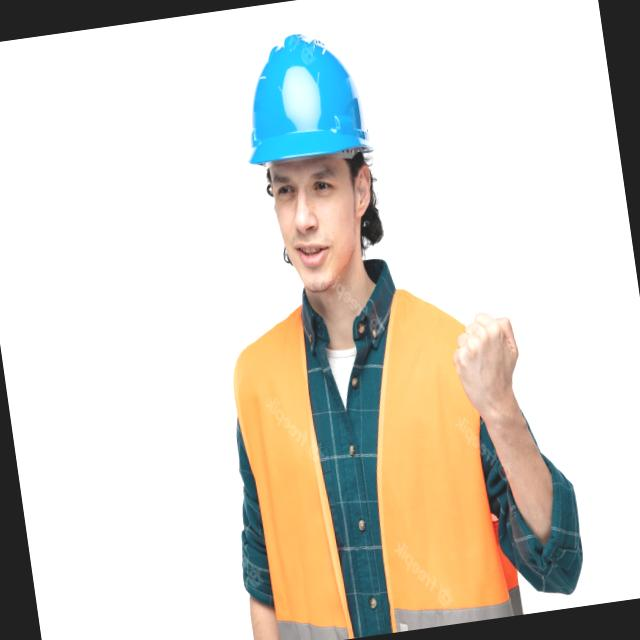helmet: (230, 25, 382, 174)
no-goggles: (260, 154, 374, 204)
vest: (221, 261, 514, 640)
